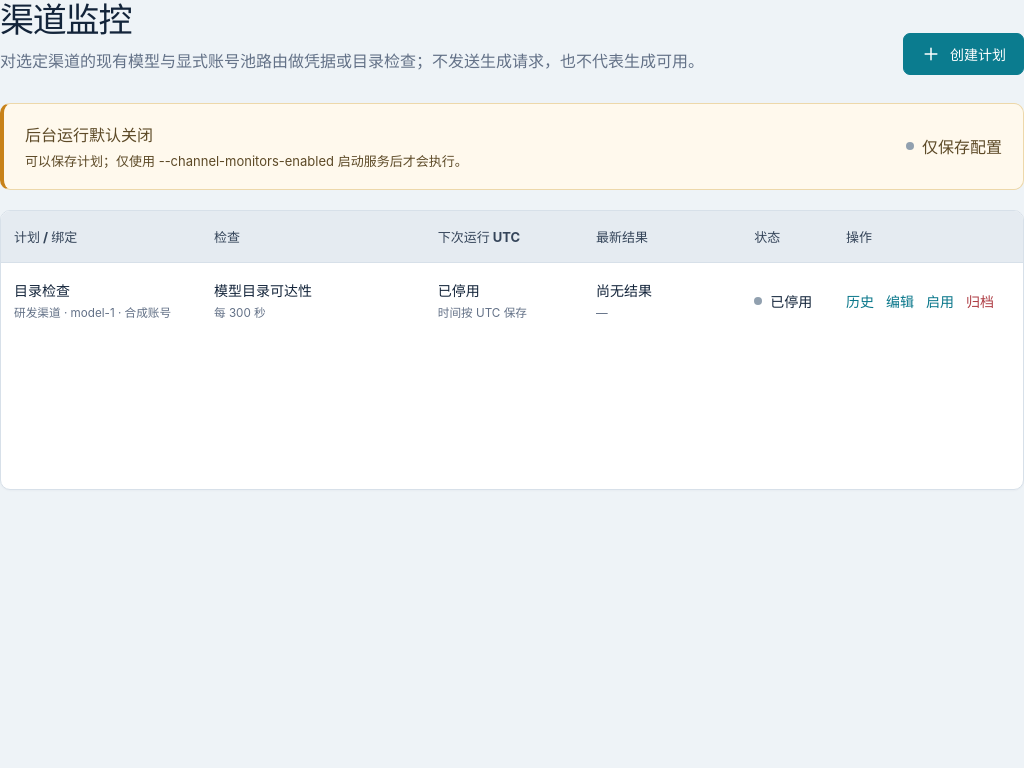
Test: channel monitors page › does not probe the summary API when an older service omits its separate capability
Click the button "历史" at (860, 301), box left=846, top=291, right=874, bottom=311
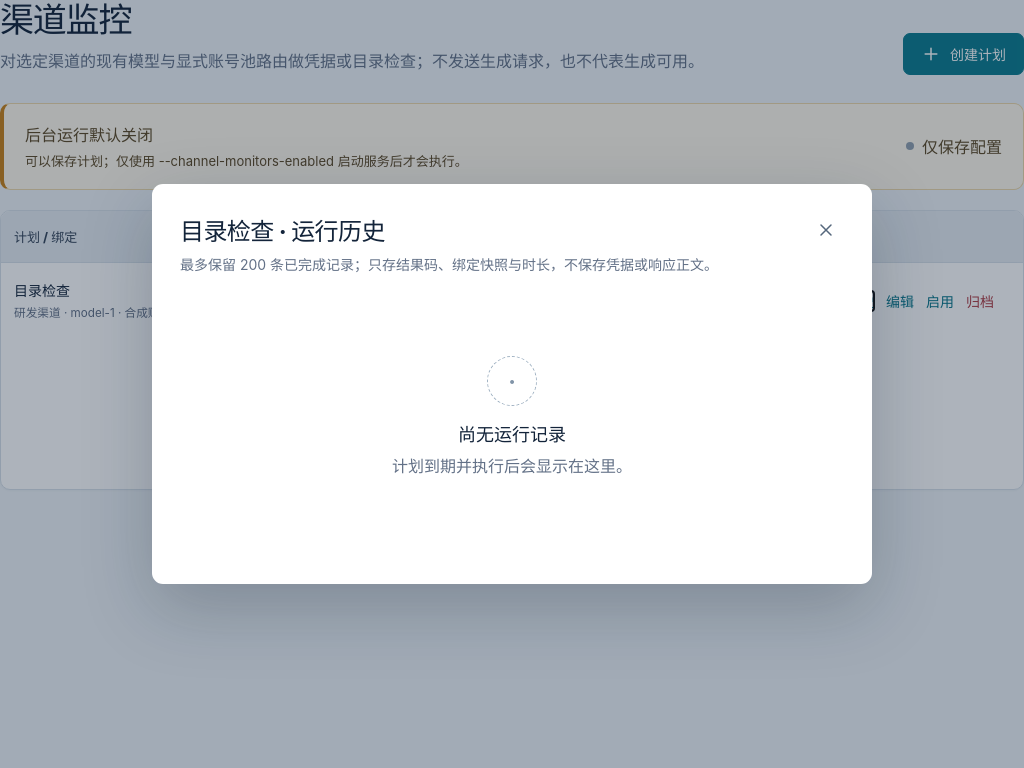
Expected: the heading "尚无运行记录" is shown, left=458, top=420, right=566, bottom=446
